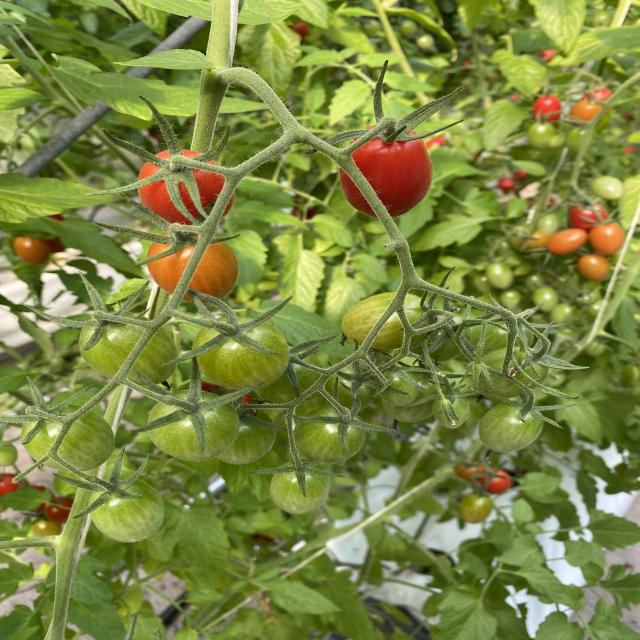c-half-riped: (146, 228, 240, 306), (341, 292, 435, 351)
c-riped: (338, 124, 433, 218), (136, 148, 236, 232)
c-unriped: (78, 310, 178, 388), (192, 315, 291, 390), (148, 388, 239, 462), (20, 403, 116, 472), (85, 477, 166, 543), (252, 345, 326, 409), (293, 405, 368, 465), (379, 366, 451, 422), (471, 348, 550, 399), (214, 406, 278, 464), (403, 312, 474, 363), (478, 400, 544, 453), (268, 459, 330, 514), (314, 363, 378, 414), (465, 318, 533, 363), (377, 370, 420, 408), (434, 391, 470, 428)
